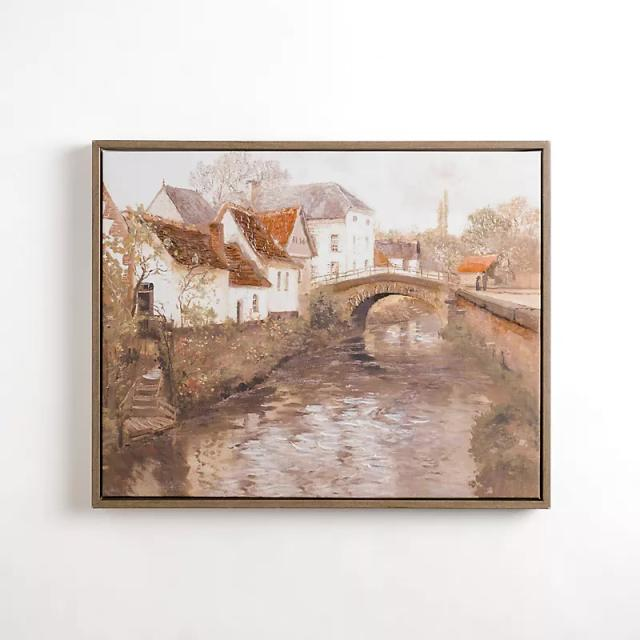painting: (92, 138, 550, 509)
